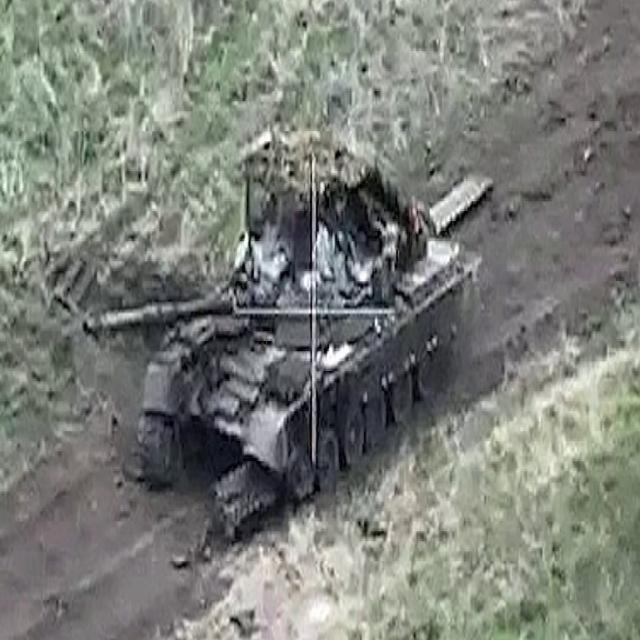TANK: (72, 138, 466, 526)
